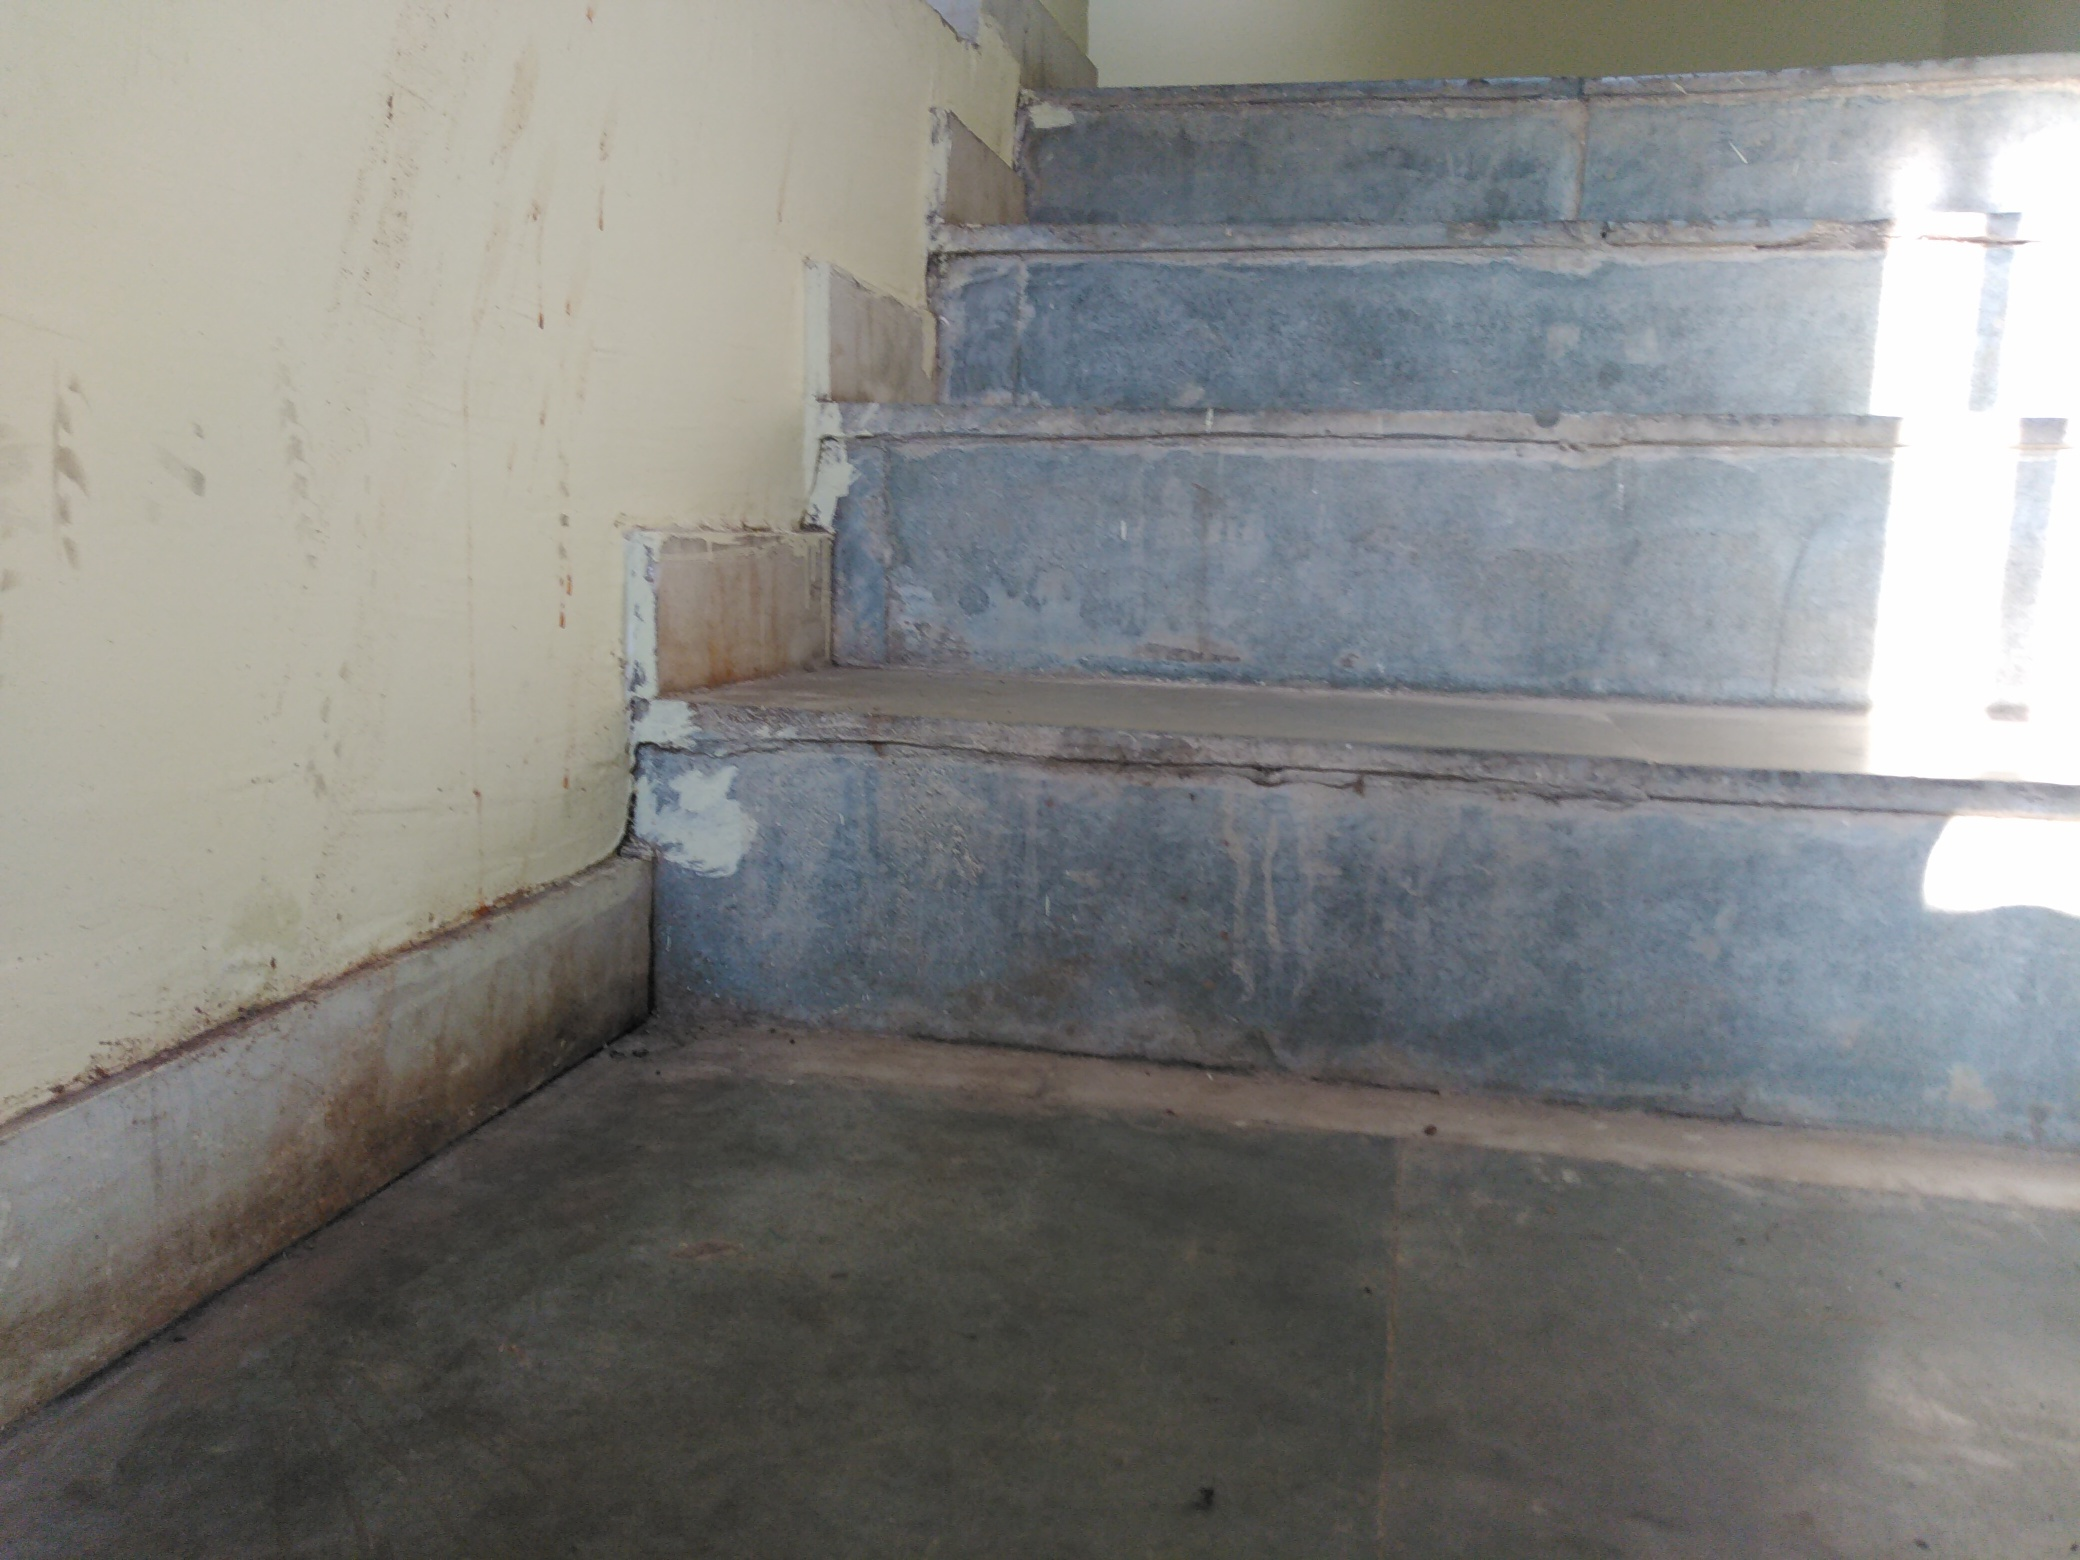stairs_up: (632, 66, 2080, 1222)
